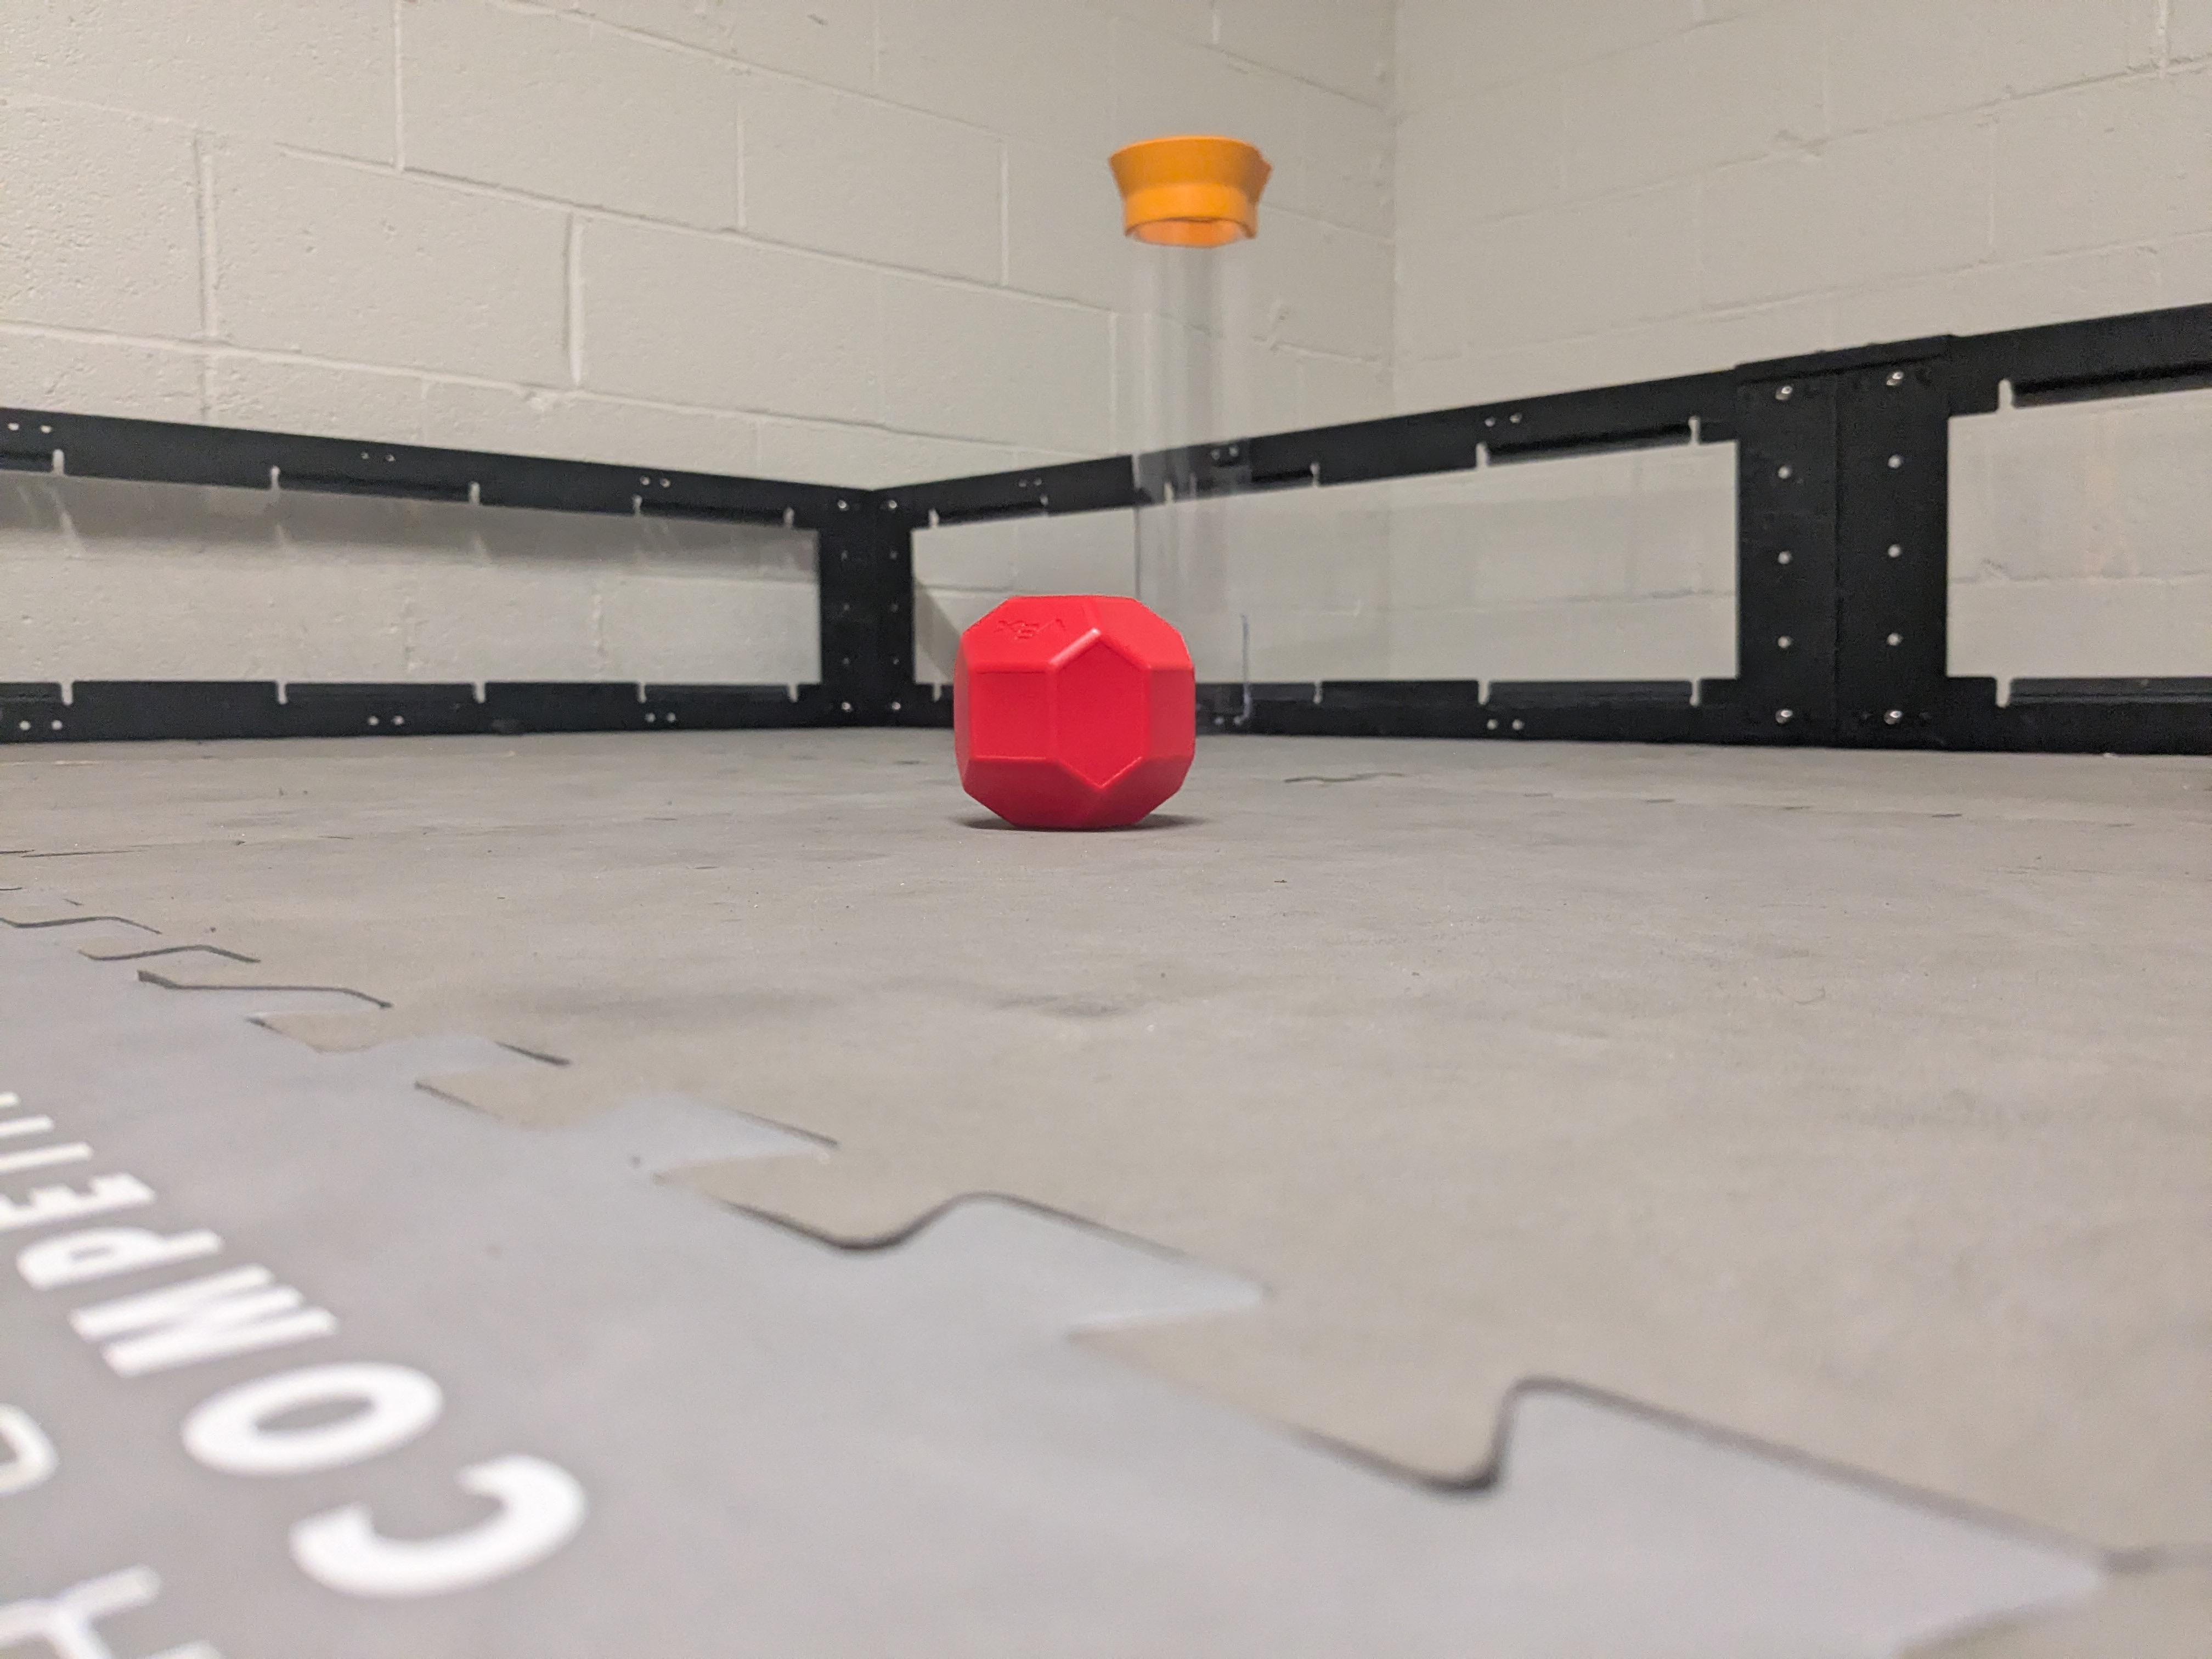Vex-Pieces-RED: (953, 596, 1195, 826)
